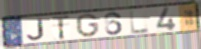4: (155, 6, 178, 32)
6: (104, 11, 124, 36)
G: (75, 13, 101, 38)
J: (26, 17, 46, 41)
L: (129, 9, 151, 35)
T: (50, 14, 71, 41)
